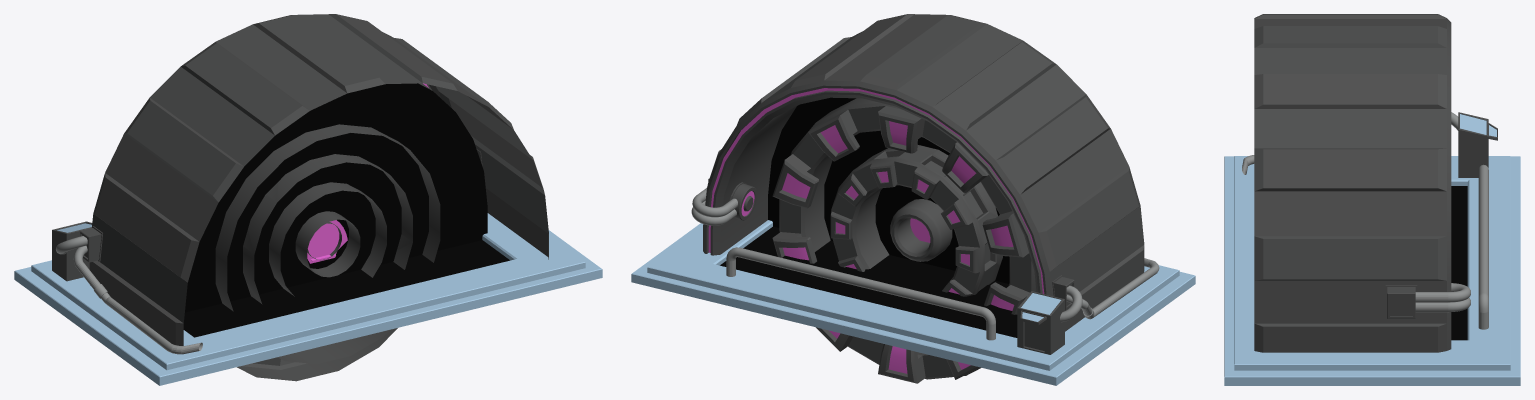
Rendered from CoreReactor.fbx.
3 renders of one model, left to right at view 1: azimuth 30°, elevation 25°; view 2: azimuth 150°, elevation 25°; view 3: azimuth 270°, elevation 25°, orthographic. The views are drawn at different scales.
Visible parts, largest first — view 1: NewCase, Base, InnerWheel, Pipe4, Console, Box1; view 2: NewCase, InnerWheel, Base, Railing, Console, Pipe4, Housing, Pipe2; view 3: NewCase, Base, Console, Railing, Box2, Pipe2, Pipe1.
Boxes of the visible parts, x1,y1,x2,y2 form: NewCase: (89,14,548,345); Base: (14,213,602,385); InnerWheel: (215,124,440,381); Pipe4: (73,246,202,354); Console: (52,221,92,281); Box1: (80,226,102,262); NewCase: (703,14,1144,331); InnerWheel: (772,98,1036,383); Base: (631,220,1195,385); Railing: (726,247,995,340); Console: (1017,291,1064,354); Pipe4: (1066,258,1159,319); Housing: (729,182,756,220); Pipe2: (692,188,737,217); NewCase: (1254,14,1451,352); Base: (1224,156,1520,385); Console: (1458,112,1497,177); Railing: (1478,164,1488,329); Box2: (1385,285,1417,318); Pipe2: (1415,283,1470,302); Pipe1: (1415,298,1470,312).
Bounding box in the file's own units: 9.14 × 6.44 × 5.19.
